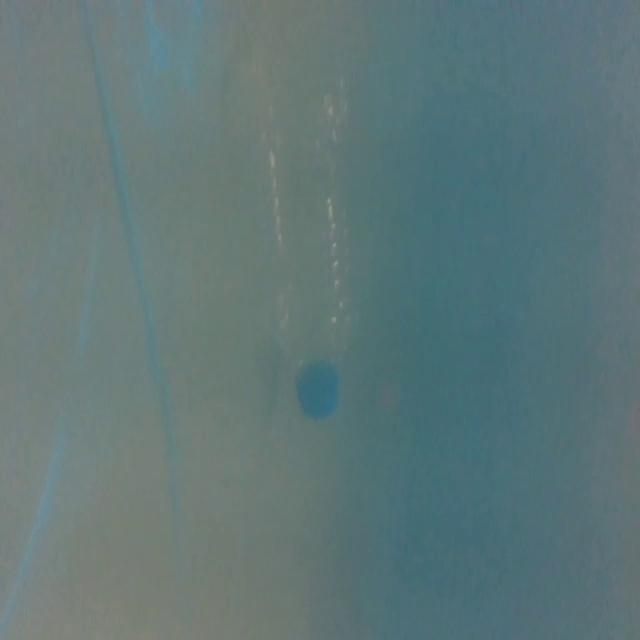plastic bottle: (253, 71, 371, 429)
